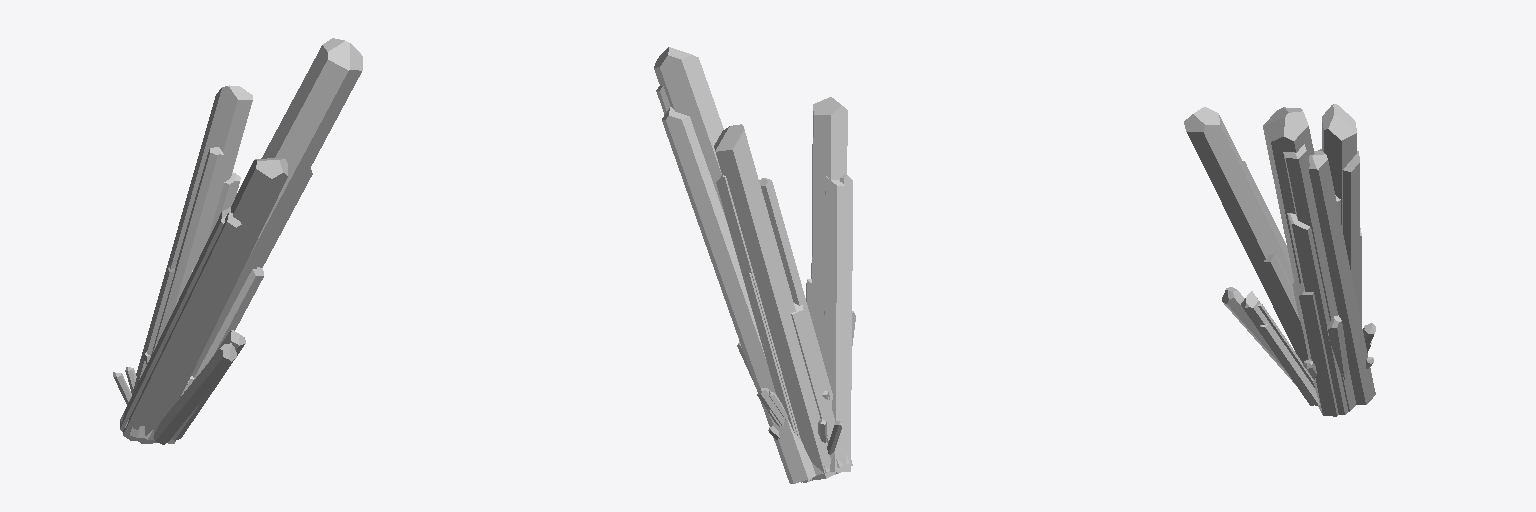
The model's file is crystal.obj.
3 views of the same model, side by side, from view 1: azimuth 30°, elevation 25°; view 2: azimuth 150°, elevation 25°; view 3: azimuth 270°, elevation 25° (orthographic).
Parts seen in each view (by area): view 1: group1 crystaldesert:Crystal polySurface10, group1 crystaldesert:Crystal polySurface18, group1 crystaldesert:Crystal polySurface1, group1 crystaldesert:Crystal polySurface20, group1 crystaldesert:Crystal polySurface6, group1 crystaldesert:Crystal polySurface184, group1 crystaldesert:Crystal polySurface21, group1 crystaldesert:Crystal polySurface11, group1 crystaldesert:Crystal polySurface3, group1 crystaldesert:Crystal polySurface121, group1 crystaldesert:Crystal polySurface8, group1 crystaldesert:Crystal polySurface16; view 2: group1 crystaldesert:Crystal polySurface1, group1 crystaldesert:Crystal polySurface15, group1 crystaldesert:Crystal polySurface21, group1 crystaldesert:Crystal polySurface18, group1 crystaldesert:Crystal polySurface10, group1 crystaldesert:Crystal polySurface6, group1 crystaldesert:Crystal polySurface5, group1 crystaldesert:Crystal polySurface3, group1 crystaldesert:Crystal polySurface20, polySurface4 group1 crystaldesert:Crystal; view 3: group1 crystaldesert:Crystal polySurface18, group1 crystaldesert:Crystal polySurface15, group1 crystaldesert:Crystal polySurface10, group1 crystaldesert:Crystal polySurface13, group1 crystaldesert:Crystal polySurface16, group1 crystaldesert:Crystal polySurface11, group1 crystaldesert:Crystal polySurface1, group1 crystaldesert:Crystal polySurface5, group1 crystaldesert:Crystal polySurface121, group1 crystaldesert:Crystal polySurface19, group1 crystaldesert:Crystal polySurface184, group1 crystaldesert:Crystal polySurface138 (+1 smaller).
Boxes of the visible parts, x1=… form: group1 crystaldesert:Crystal polySurface10: x1=191, y1=38, x2=362, y2=376; group1 crystaldesert:Crystal polySurface18: x1=138, y1=158, x2=287, y2=443; group1 crystaldesert:Crystal polySurface1: x1=131, y1=85, x2=252, y2=392; group1 crystaldesert:Crystal polySurface20: x1=123, y1=213, x2=241, y2=440; group1 crystaldesert:Crystal polySurface6: x1=129, y1=147, x2=224, y2=437; group1 crystaldesert:Crystal polySurface184: x1=153, y1=343, x2=236, y2=444; group1 crystaldesert:Crystal polySurface21: x1=120, y1=207, x2=230, y2=431; group1 crystaldesert:Crystal polySurface11: x1=168, y1=267, x2=263, y2=443; group1 crystaldesert:Crystal polySurface3: x1=132, y1=267, x2=192, y2=394; group1 crystaldesert:Crystal polySurface121: x1=171, y1=330, x2=245, y2=440; group1 crystaldesert:Crystal polySurface8: x1=208, y1=172, x2=240, y2=238; group1 crystaldesert:Crystal polySurface16: x1=258, y1=168, x2=312, y2=267; group1 crystaldesert:Crystal polySurface1: x1=714, y1=124, x2=835, y2=480; group1 crystaldesert:Crystal polySurface15: x1=662, y1=107, x2=815, y2=483; group1 crystaldesert:Crystal polySurface21: x1=824, y1=176, x2=848, y2=471; group1 crystaldesert:Crystal polySurface18: x1=811, y1=97, x2=847, y2=361; group1 crystaldesert:Crystal polySurface10: x1=654, y1=47, x2=829, y2=475; group1 crystaldesert:Crystal polySurface6: x1=759, y1=178, x2=852, y2=465; group1 crystaldesert:Crystal polySurface5: x1=716, y1=175, x2=811, y2=482; group1 crystaldesert:Crystal polySurface3: x1=791, y1=303, x2=840, y2=473; group1 crystaldesert:Crystal polySurface20: x1=840, y1=174, x2=852, y2=471; polySurface4 group1 crystaldesert:Crystal: x1=745, y1=273, x2=809, y2=482; group1 crystaldesert:Crystal polySurface18: x1=1184, y1=107, x2=1307, y2=363; group1 crystaldesert:Crystal polySurface15: x1=1309, y1=151, x2=1375, y2=404; group1 crystaldesert:Crystal polySurface10: x1=1263, y1=107, x2=1314, y2=283; group1 crystaldesert:Crystal polySurface13: x1=1283, y1=144, x2=1355, y2=411; group1 crystaldesert:Crystal polySurface16: x1=1287, y1=213, x2=1348, y2=414; group1 crystaldesert:Crystal polySurface11: x1=1294, y1=279, x2=1338, y2=416; group1 crystaldesert:Crystal polySurface1: x1=1322, y1=104, x2=1356, y2=229; group1 crystaldesert:Crystal polySurface5: x1=1343, y1=151, x2=1359, y2=313; group1 crystaldesert:Crystal polySurface121: x1=1241, y1=291, x2=1316, y2=405; group1 crystaldesert:Crystal polySurface19: x1=1264, y1=254, x2=1305, y2=345; group1 crystaldesert:Crystal polySurface184: x1=1222, y1=287, x2=1295, y2=384; group1 crystaldesert:Crystal polySurface138: x1=1327, y1=315, x2=1348, y2=379.
Size of the model in its own units: 27.58 by 45.94 by 21.26.